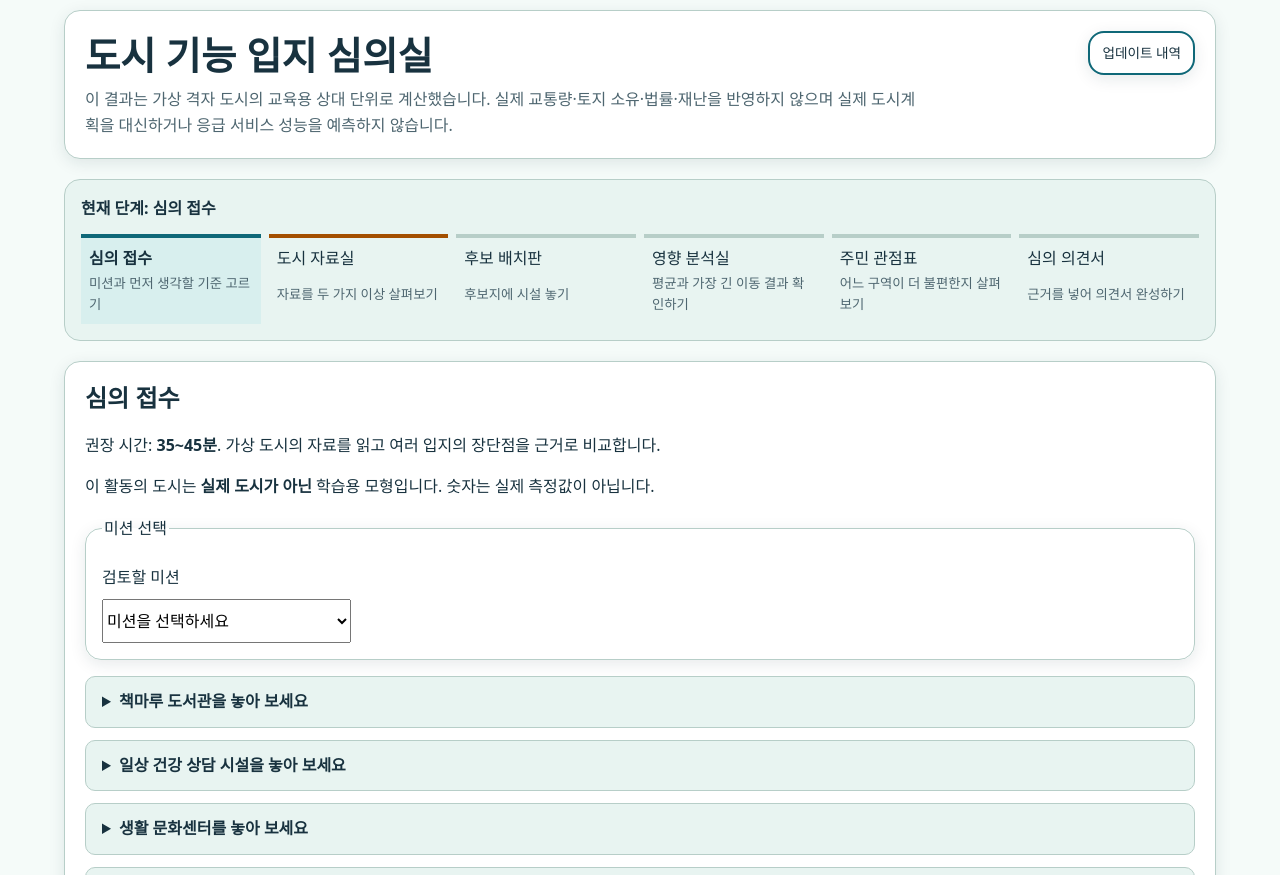
Test case: CityDataRoom › uses text, icon, and pattern encoding for a risk cell
Select "책마루 도서관을 놓아 보세요" in the dropdown named "미션 선택" at [226, 621], box [102,599,351,643]
(page scrolled)
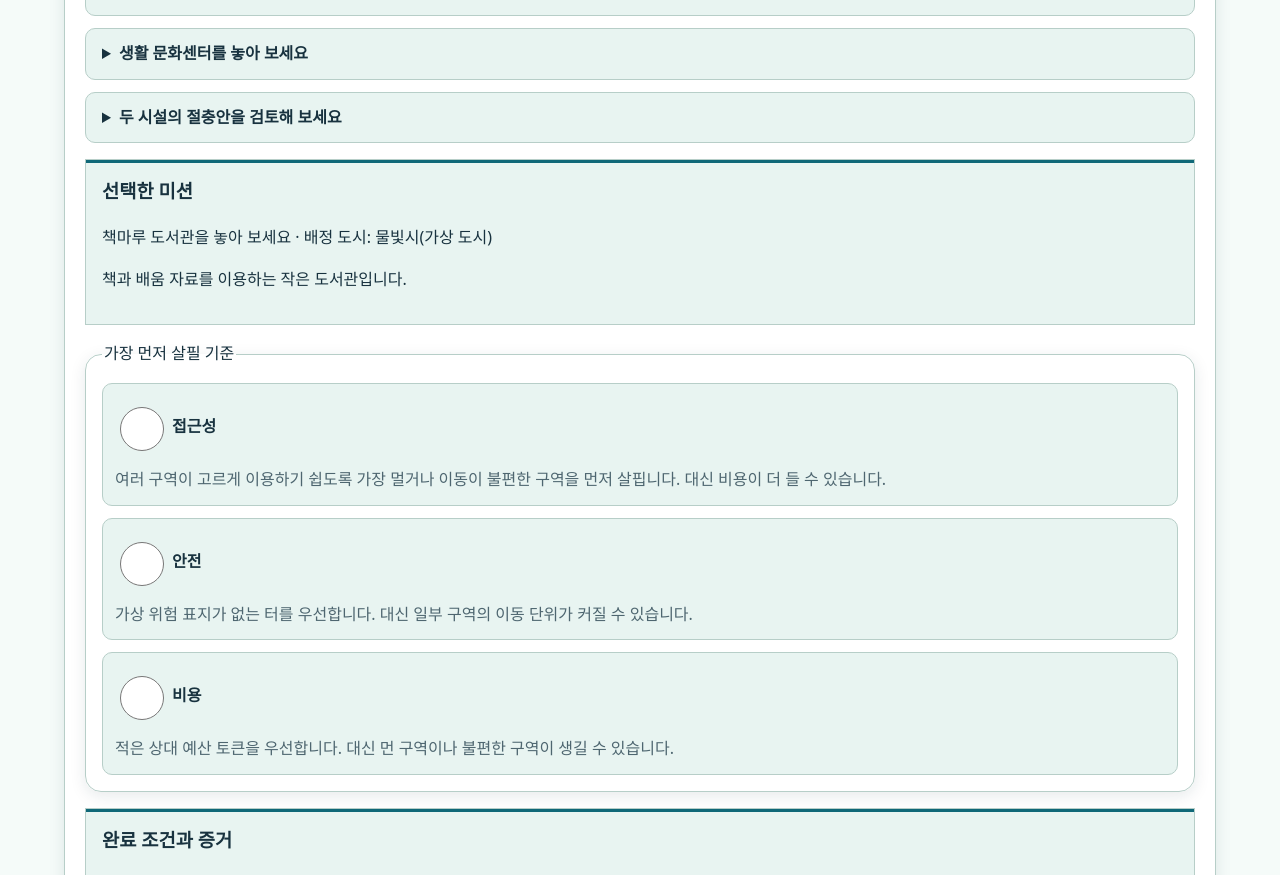
Click the radio button labelled "접근성" at [142, 429], box [120,407,164,451]
(page scrolled)
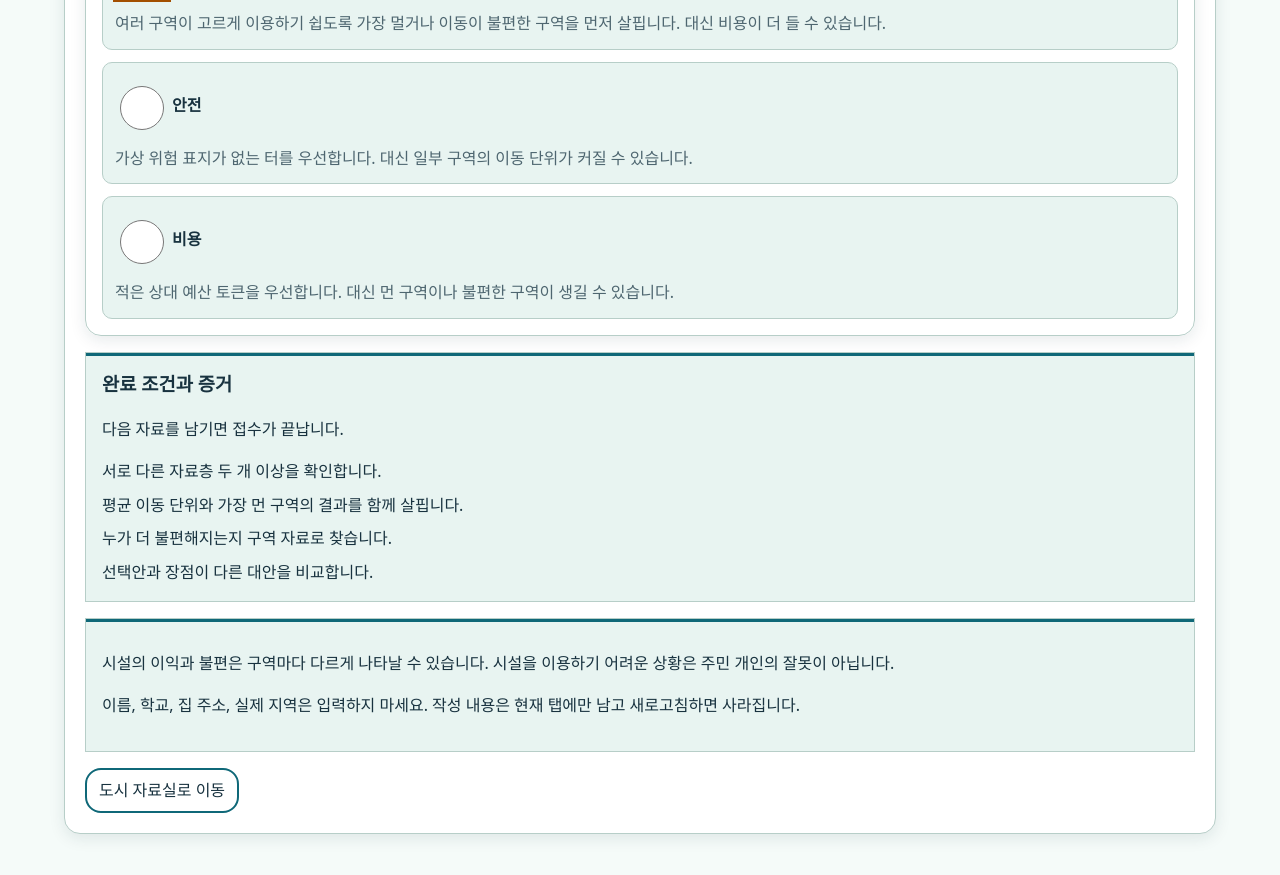
Click the button "도시 자료실로 이동" at [162, 790], box [85,768,239,813]
(page scrolled)
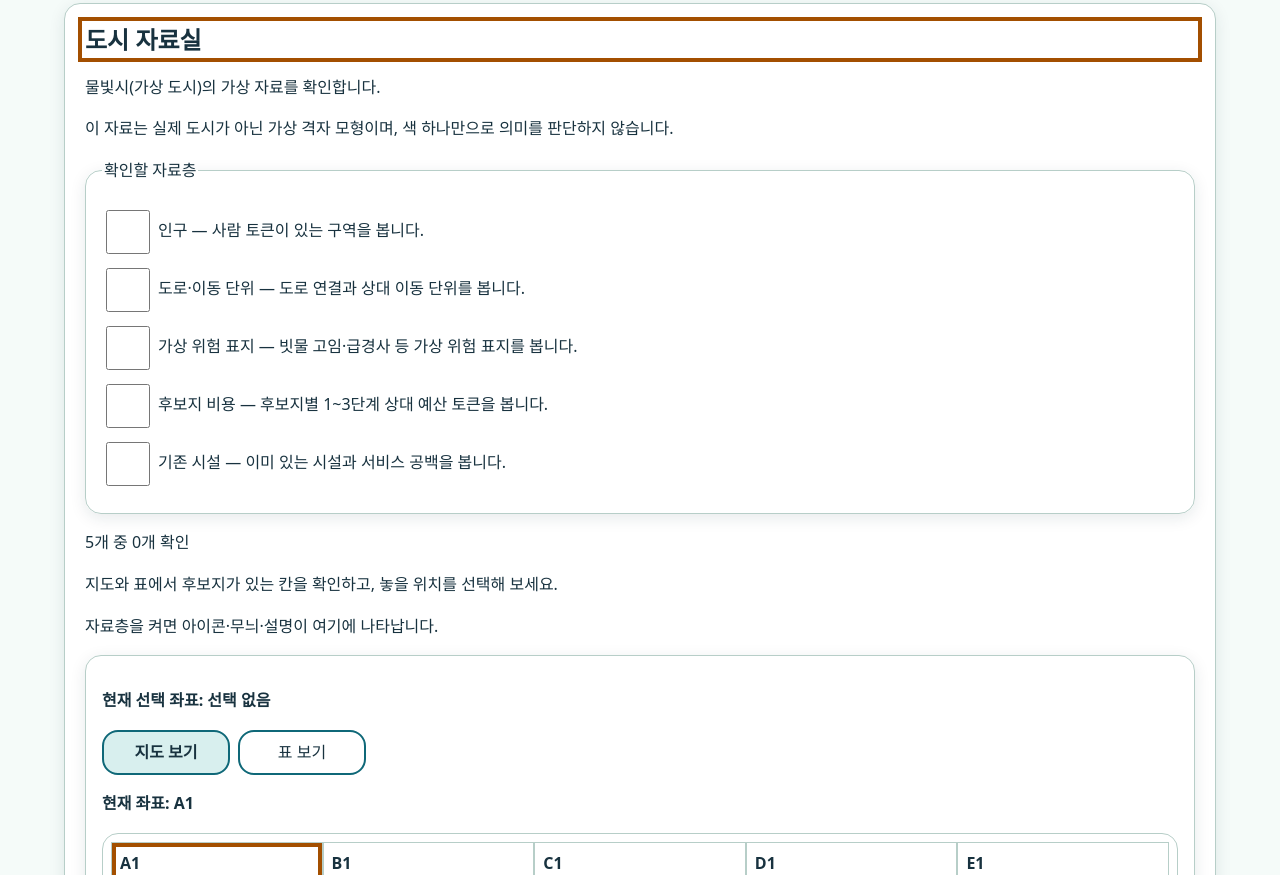
Click the checkbox labelled "가상 위험 표지" at [128, 348], box [106,326,150,370]
(page scrolled)
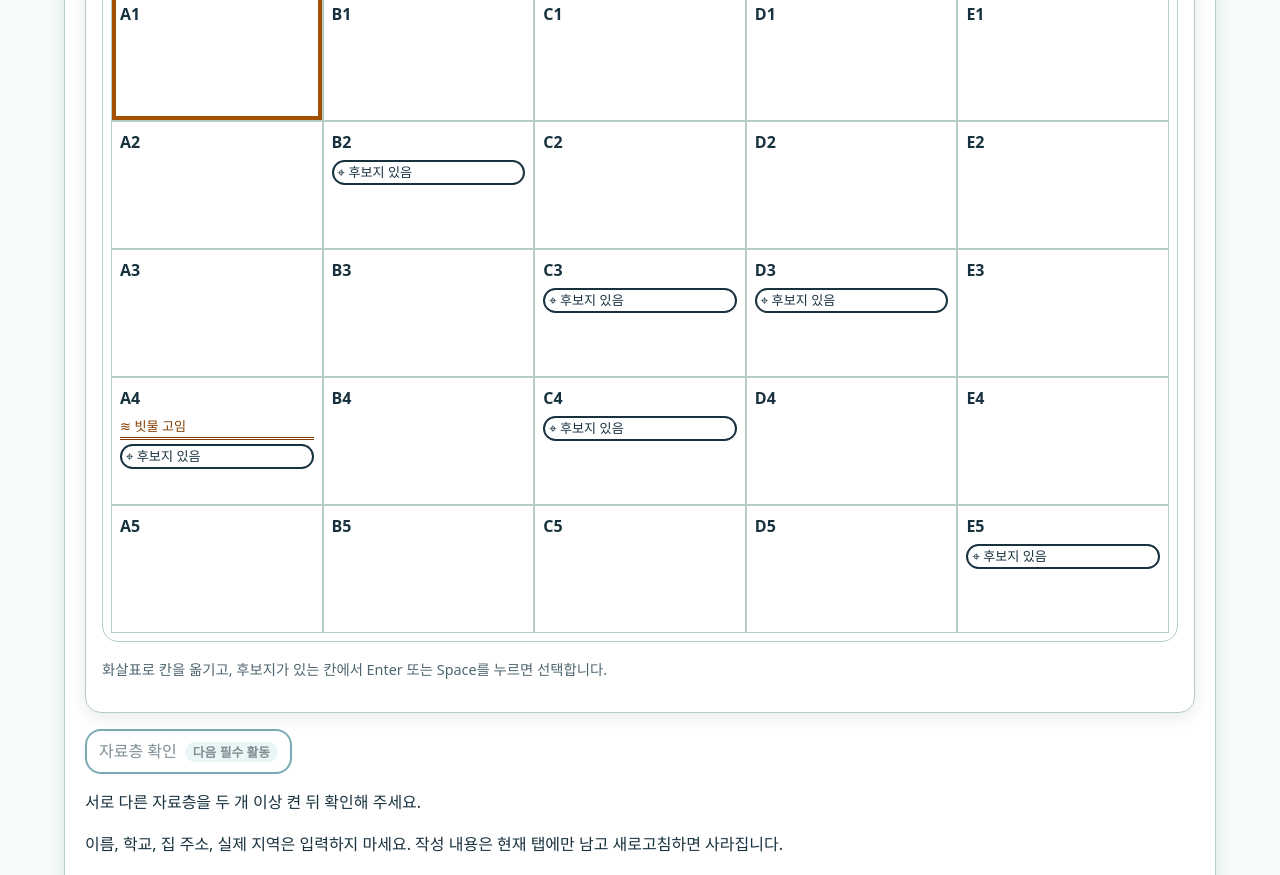
Result: the cell "A4 ≋ 빗물 고임 ⌖ 후보지 있음" is shown at [111,377,323,505]
Result: the text "≋ 빗물 고임" is shown at [120,416,314,440]
